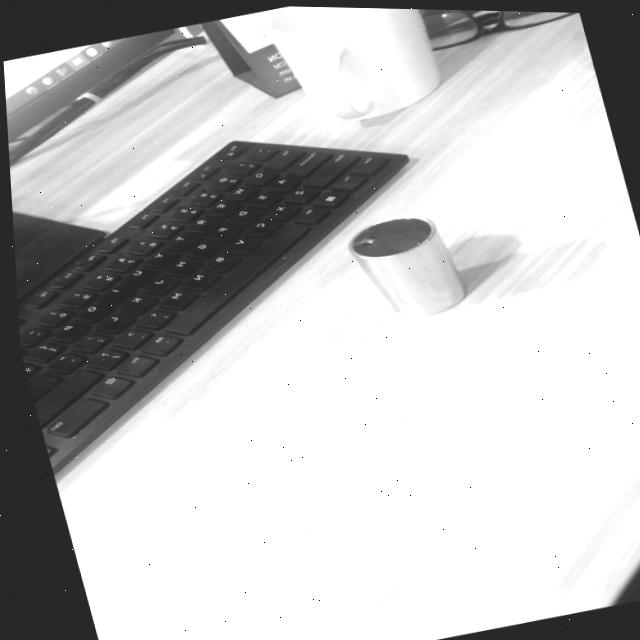Co_Lon: (343, 198, 472, 337)
